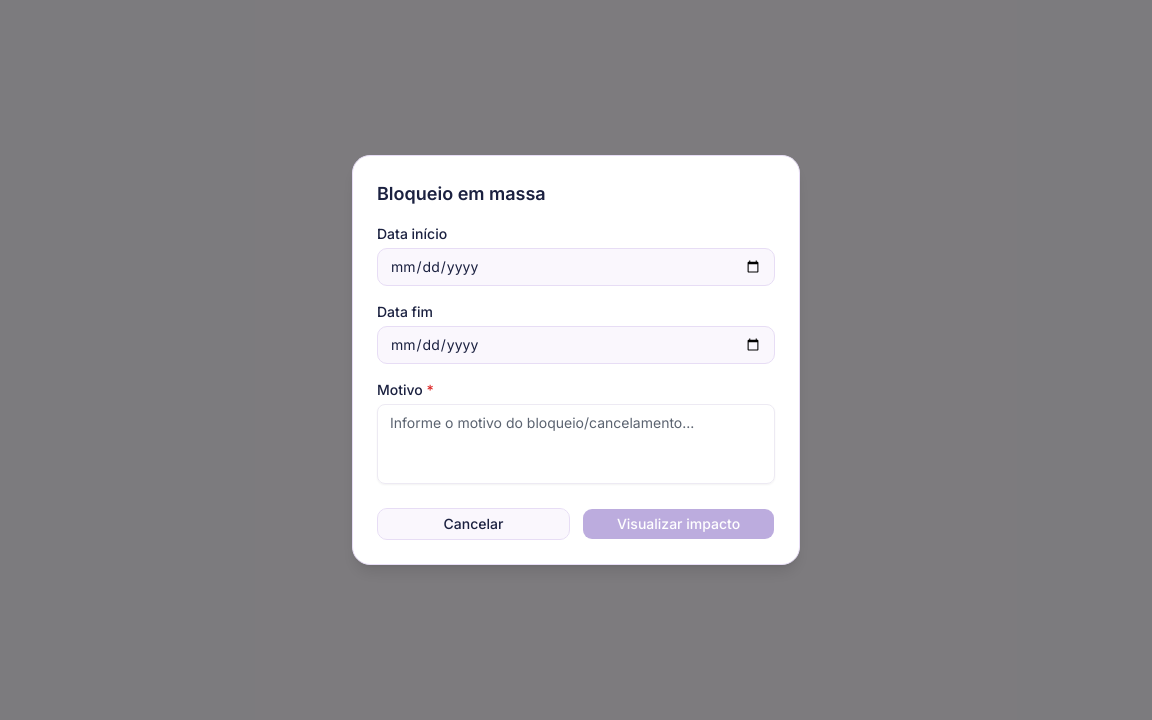
Scenario: BulkBlockModal — previa real (item 008) › deve mostrar o erro e nao liberar a confirmacao quando a previa falha
Step 1. Type "2026-04-01" into the date field with test id "modal-bulk-block-start-input" → (576,267), box [377,248,775,286]
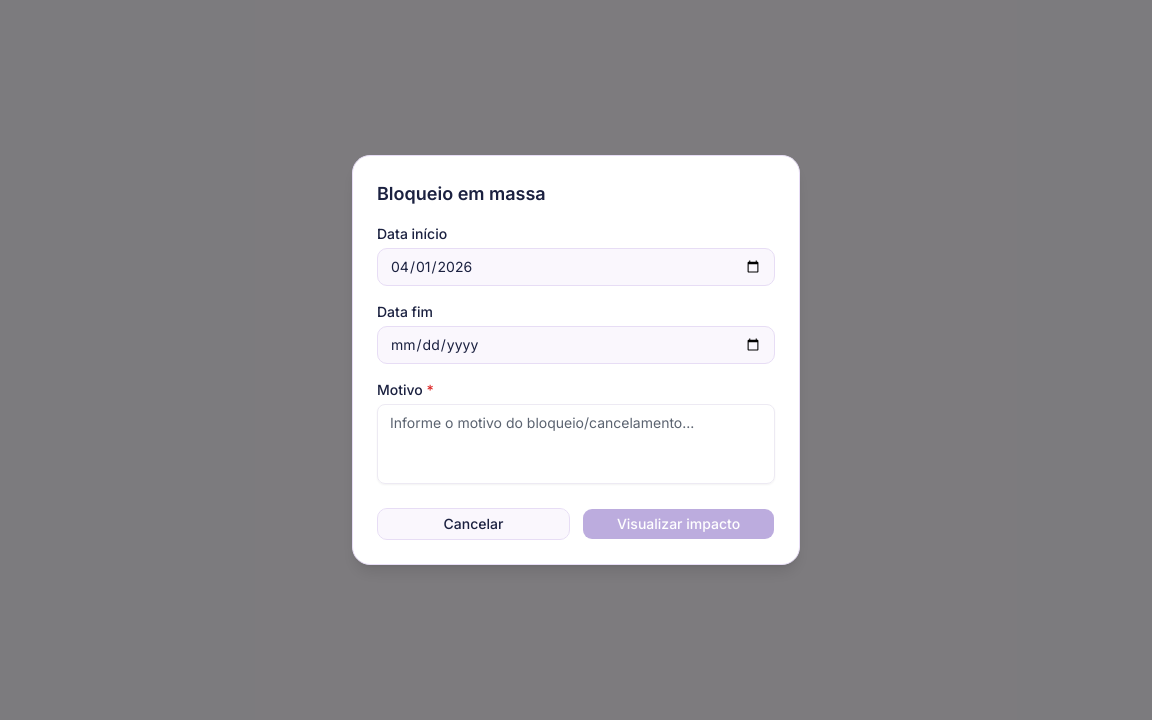
Step 2. Type "2026-04-30" into the date field with test id "modal-bulk-block-end-input" → (576,345), box [377,326,775,364]
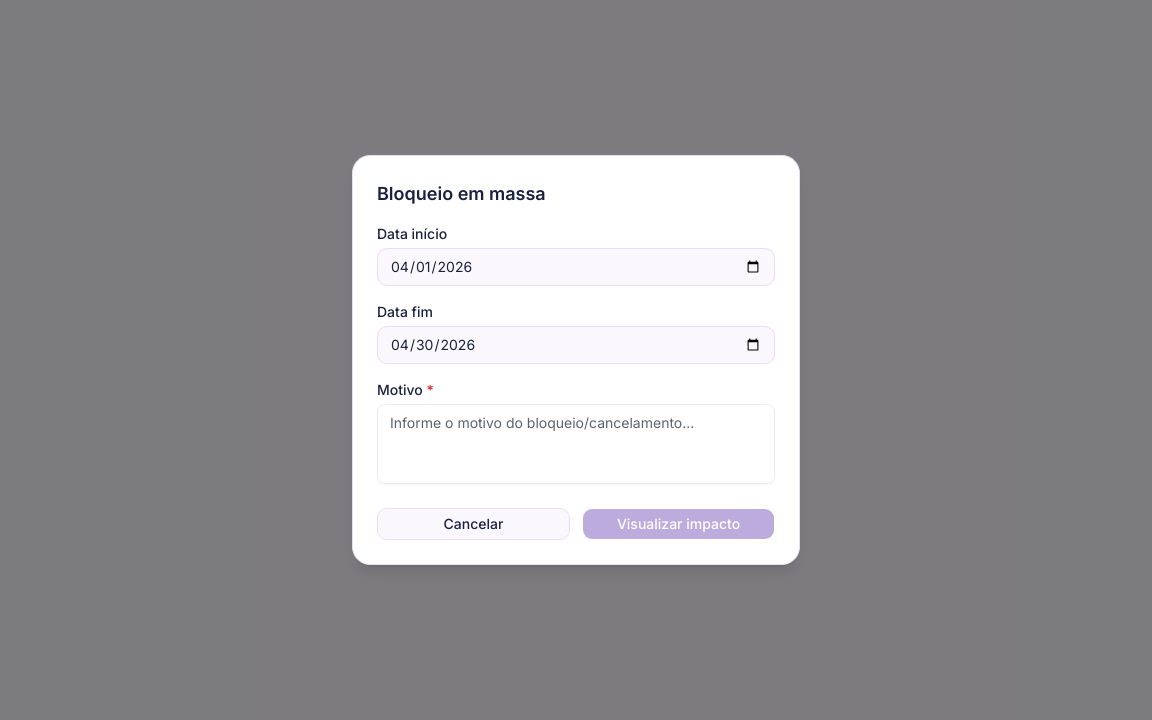
Step 3. Type "Ferias do professor" into the text box with test id "modal-bulk-block-reason-input" → (576,444), box [377,404,775,484]
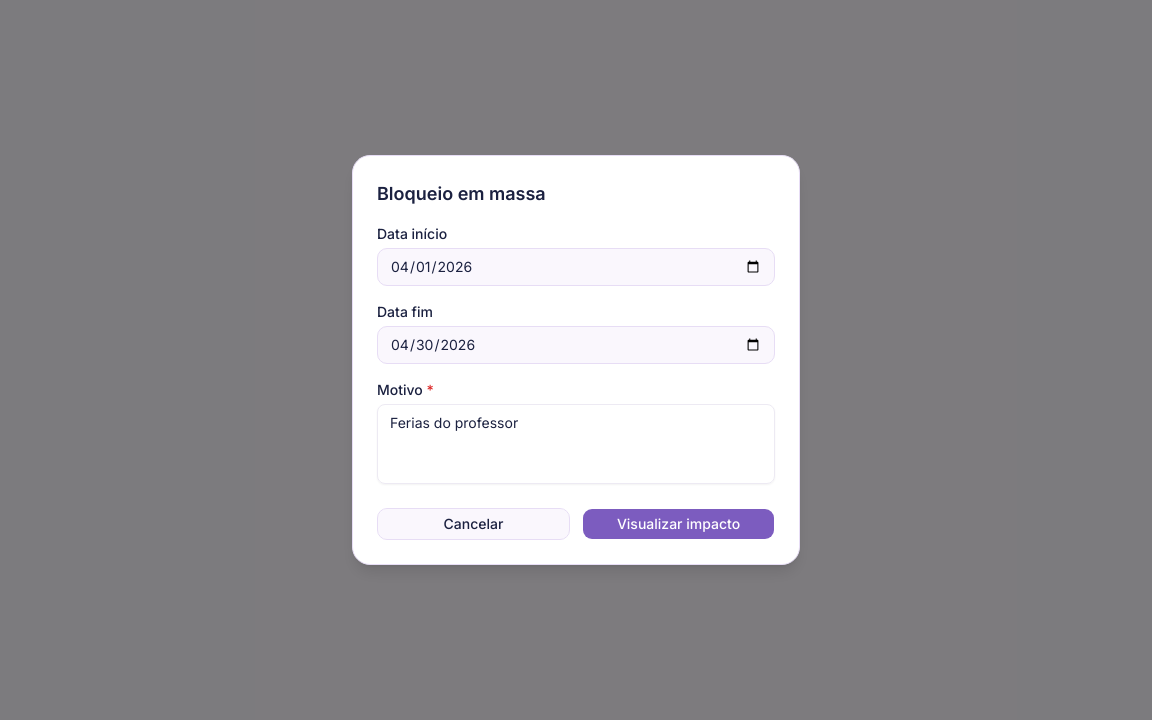
Step 4. Click the button with test id "modal-bulk-block-preview-button" → (678,524), box [582,508,775,540]
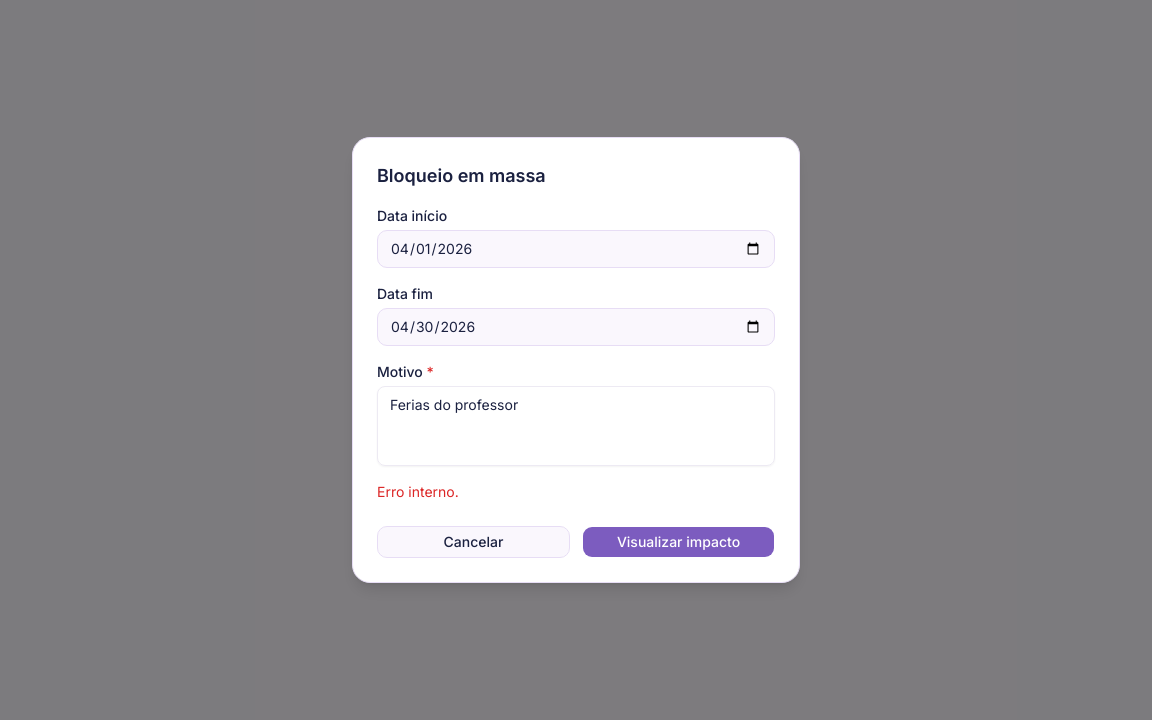
Now the message with test id "modal-bulk-block-preview-error" reads "Erro interno.", box [377,483,459,500]
